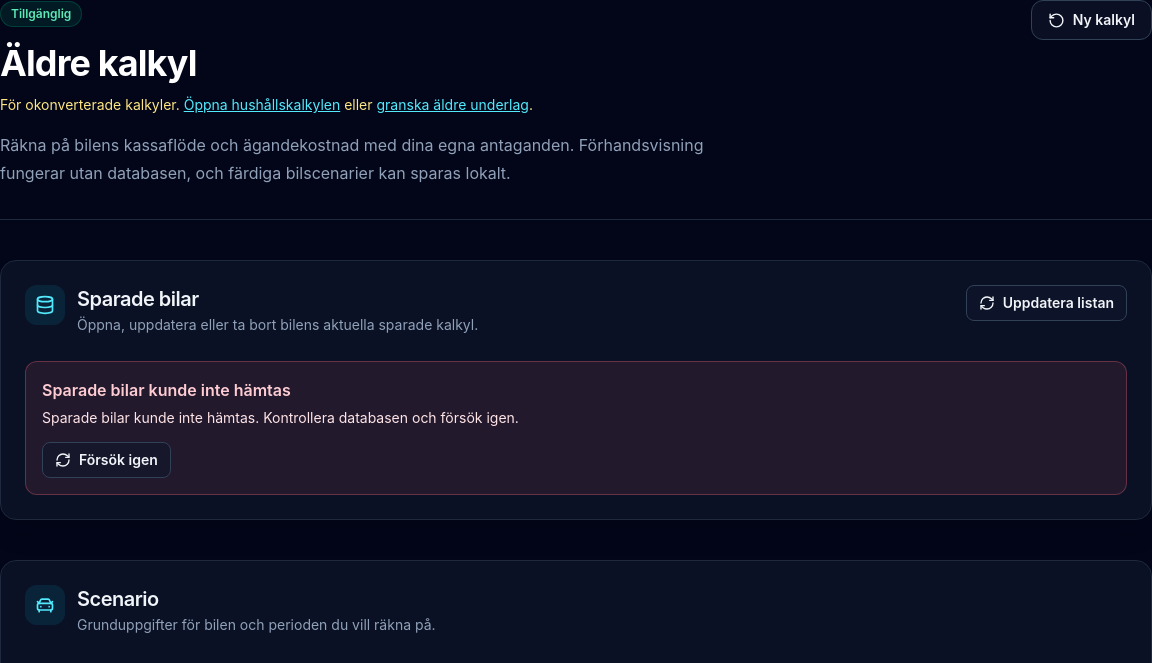
Test case: ManualCalculatorPage › shows saved-list states without blocking an unsaved preview
The image size is (1152, 663).
Expected: the text "Sparade bilar kunde inte hämtas" is shown, [42,380,291,400]
Click the button "Försök igen" at point(106, 460), box [42,442,171,478]
(page scrolled)
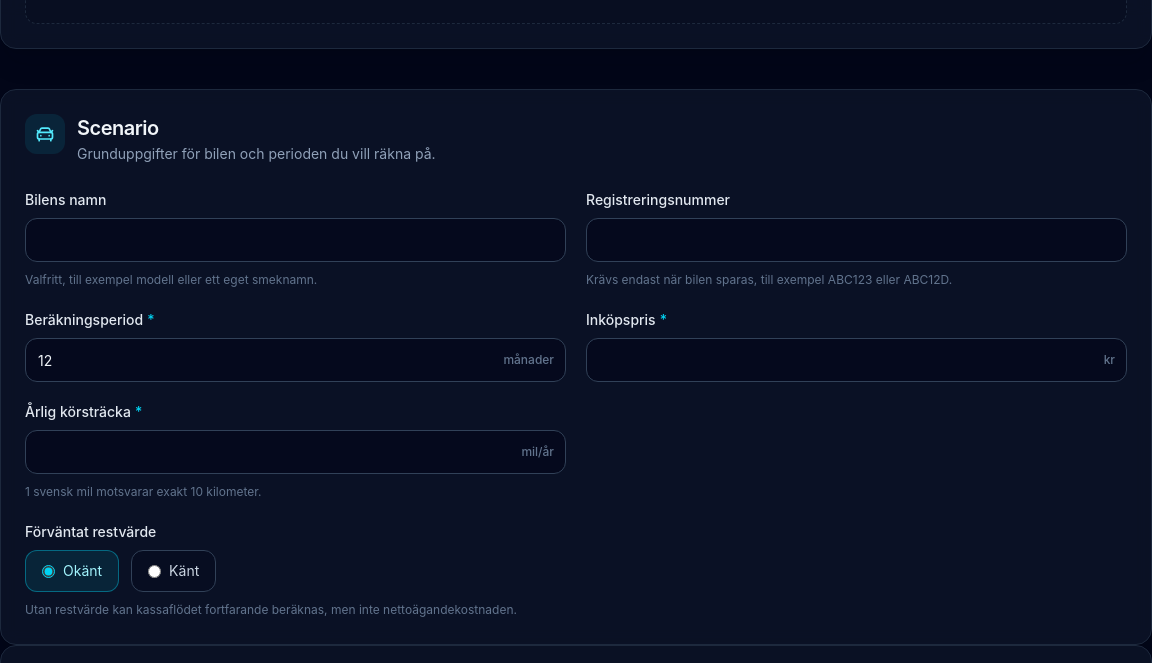
Type "20000" into the field labelled "Inköpspris*" at point(856, 360), box [586,338,1127,382]
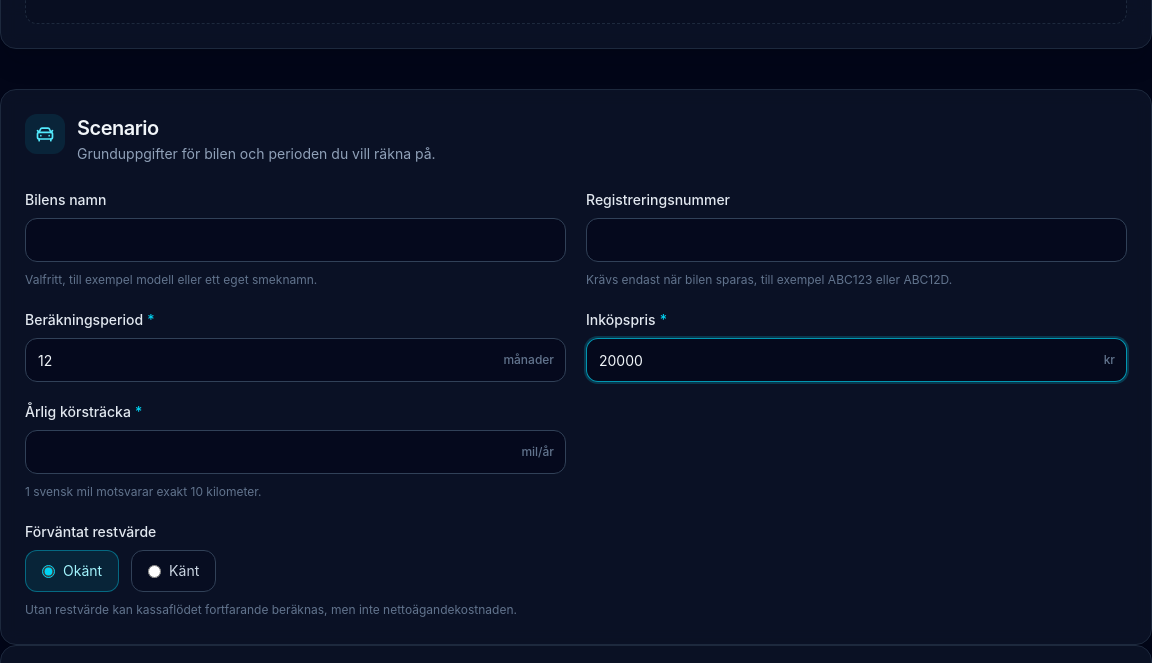
Type "0" into the field labelled "Årlig körsträcka*" at point(296, 452), box [25,430,566,474]
(page scrolled)
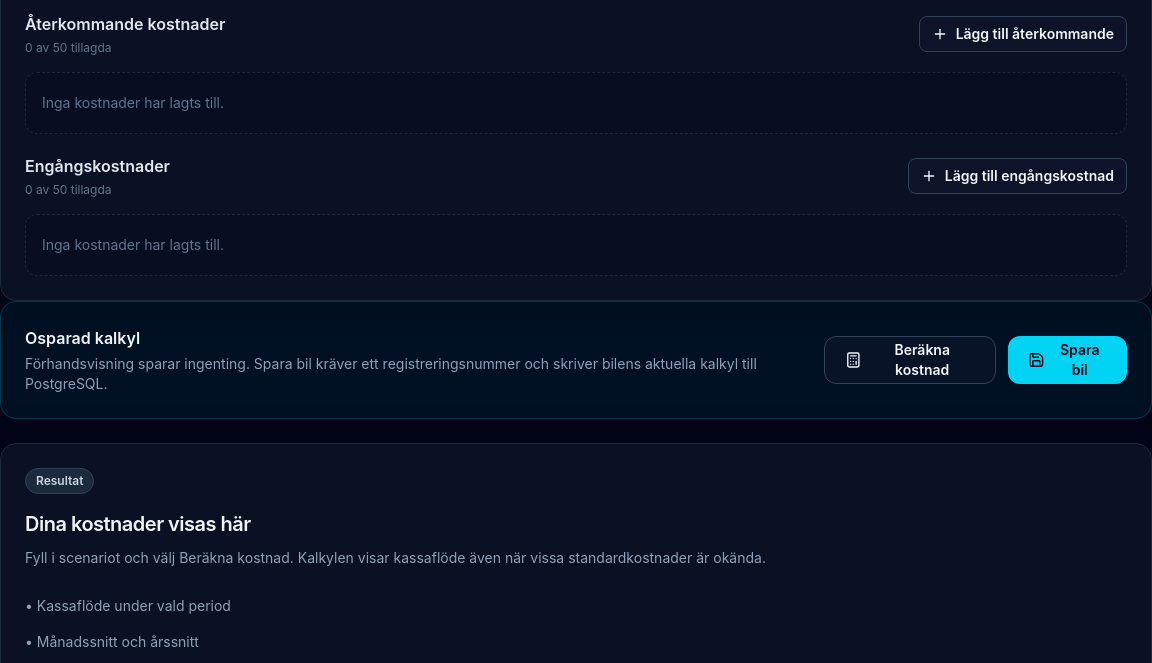
Click the button "Beräkna kostnad" at point(910, 360), box [824,336,996,384]
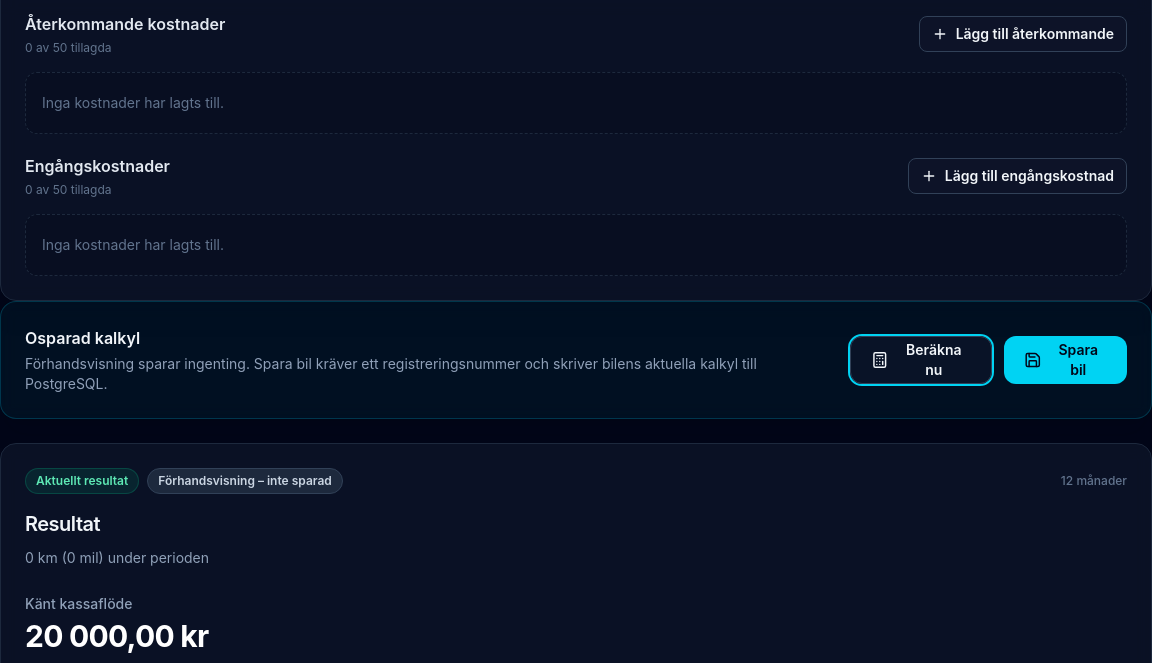
Expected: the text "Aktuellt resultat" is shown, [25,468,139,494]
